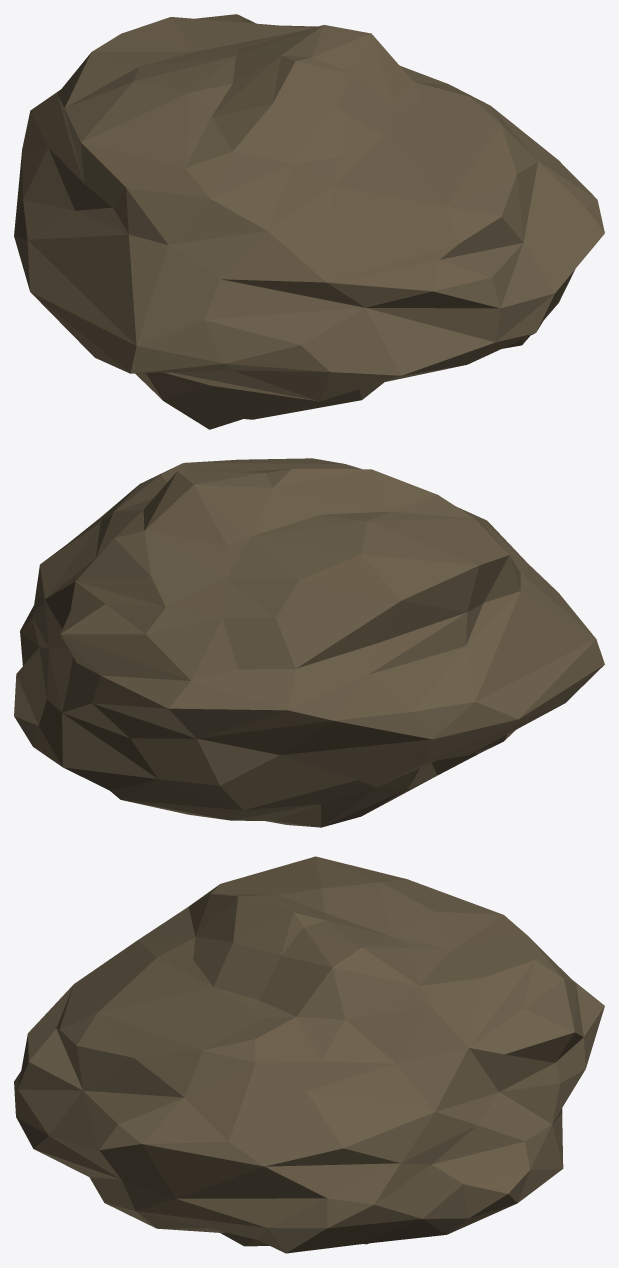
The model's file is S0.stone7.glb.
3 views of the same model, one above another, from view 1: azimuth 30°, elevation 25°; view 2: azimuth 150°, elevation 25°; view 3: azimuth 270°, elevation 25° (orthographic). The views are drawn at different scales.
Parts seen in each view (by area): view 1: Landscape.021; view 2: Landscape.021; view 3: Landscape.021.
Boxes of the visible parts, x1=… form: Landscape.021: x1=14, y1=14, x2=604, y2=429; Landscape.021: x1=14, y1=458, x2=604, y2=827; Landscape.021: x1=14, y1=856, x2=604, y2=1253.
Bounding box in the file's own units: 2.19 × 1.37 × 2.35.
